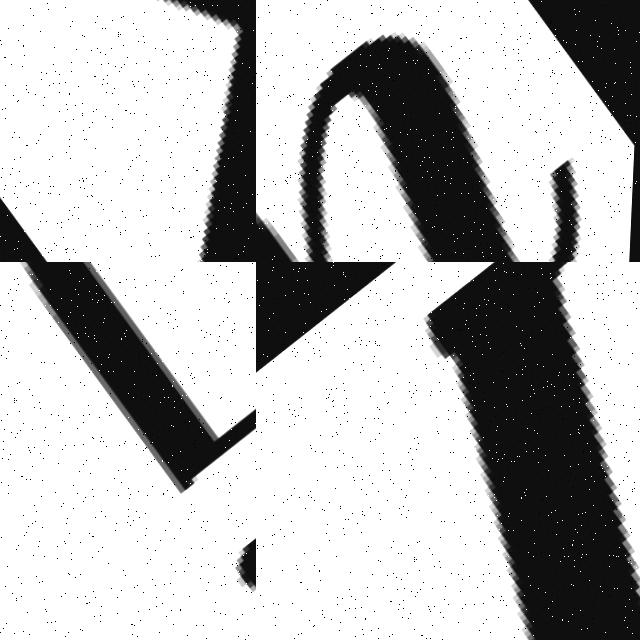I: (276, 262, 640, 640)
J: (0, 262, 256, 640)
W: (256, 0, 640, 262)
X: (0, 0, 256, 262)
